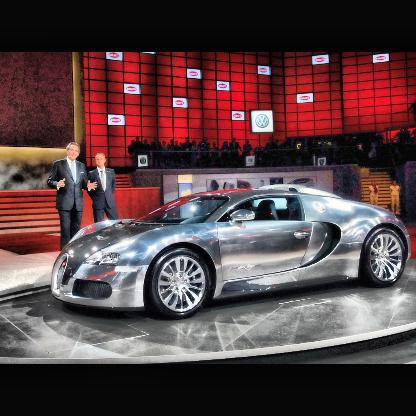Bugatti Veyron 16-4 Coupe 2009: (52, 182, 411, 320)
